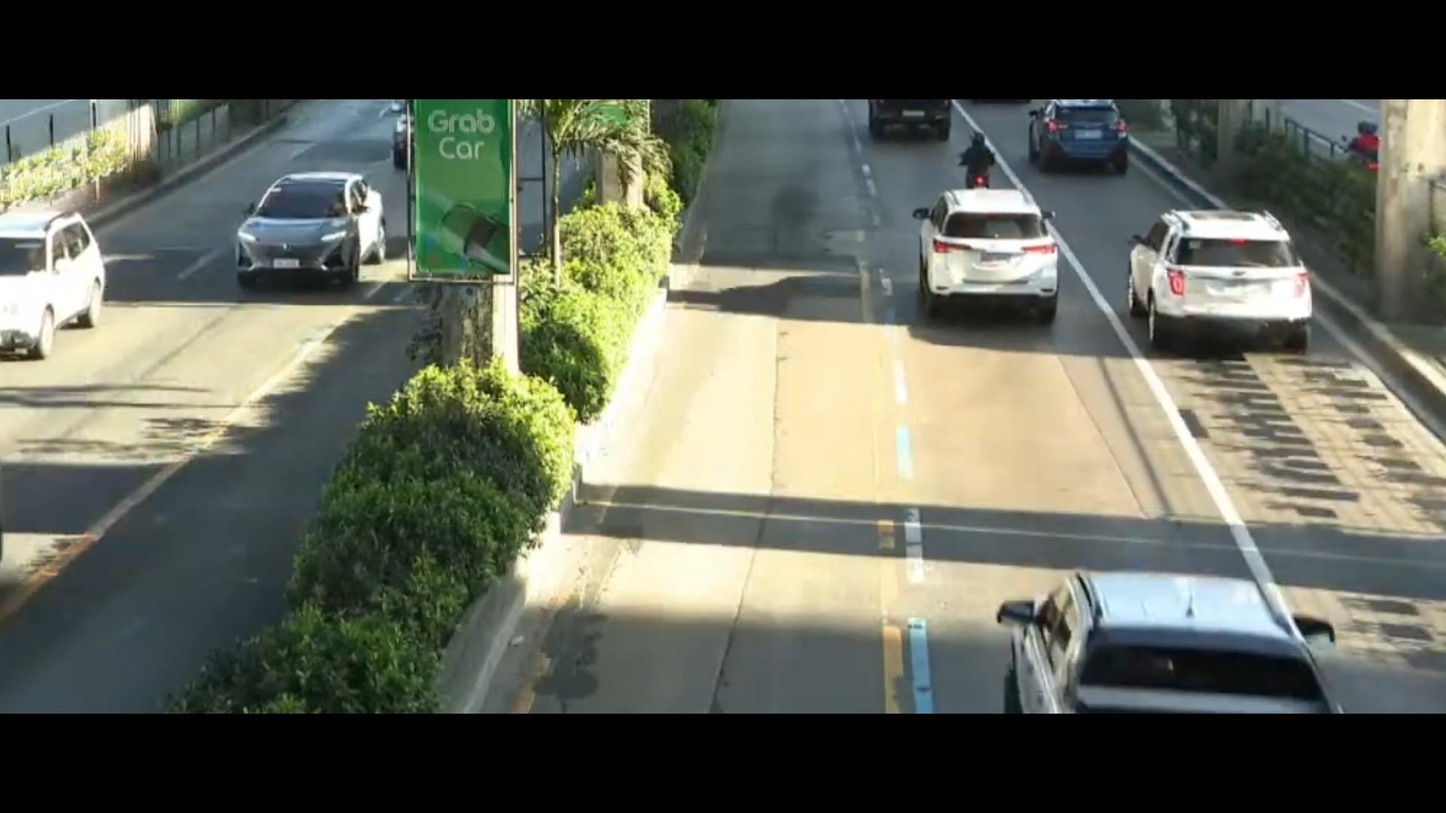Motorcycle: (948, 121, 996, 193)
SUV: (944, 531, 1355, 722), (1116, 187, 1328, 365), (893, 179, 1079, 331), (0, 206, 149, 380), (1027, 100, 1141, 181)
Sedan: (193, 164, 383, 314)
